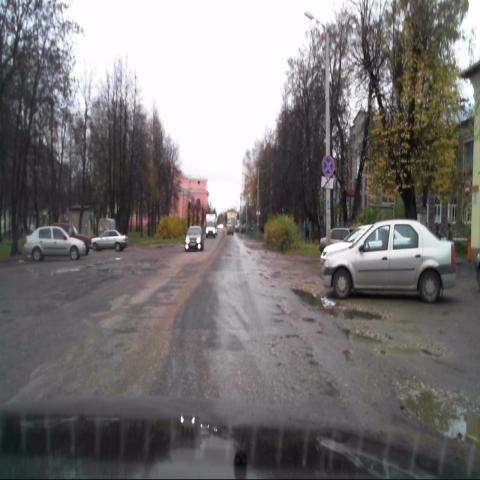3_27: (322, 155, 334, 177)
